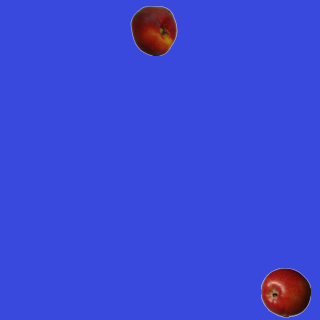Apple Braeburn: (260, 267, 310, 317)
Nectarine Flat: (128, 5, 178, 55)
